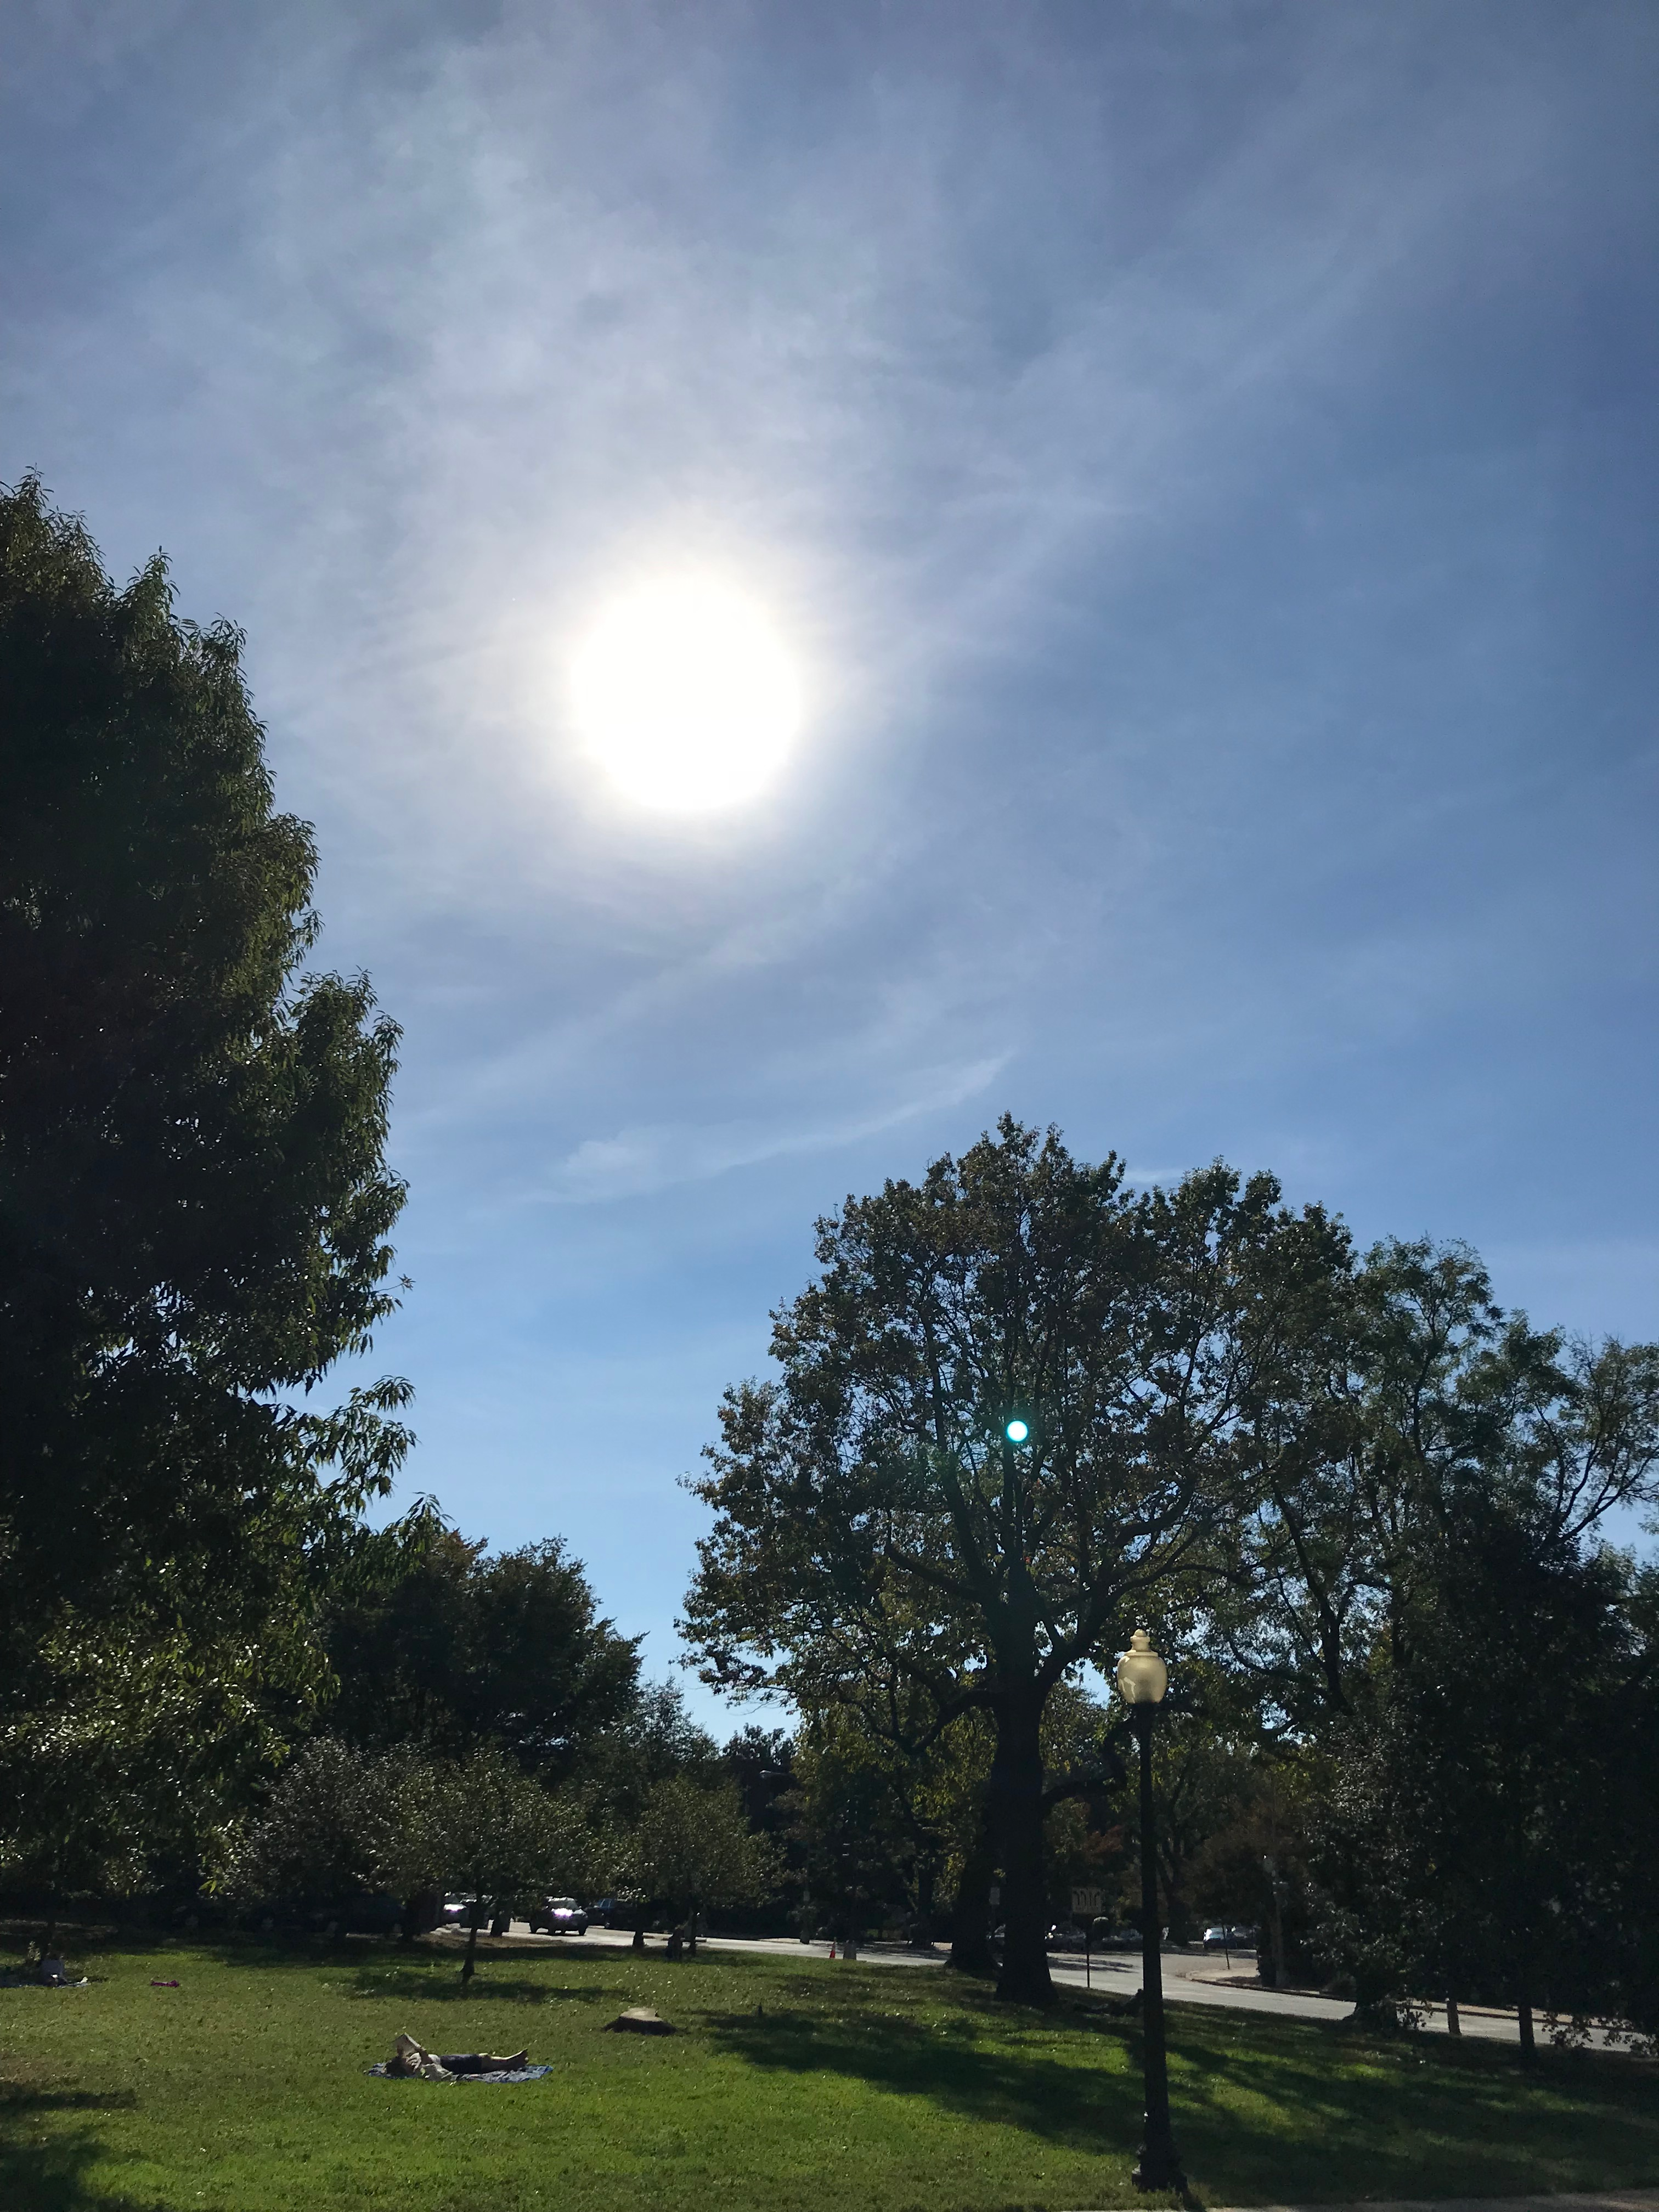flare: (1006, 1420, 1032, 1444)
